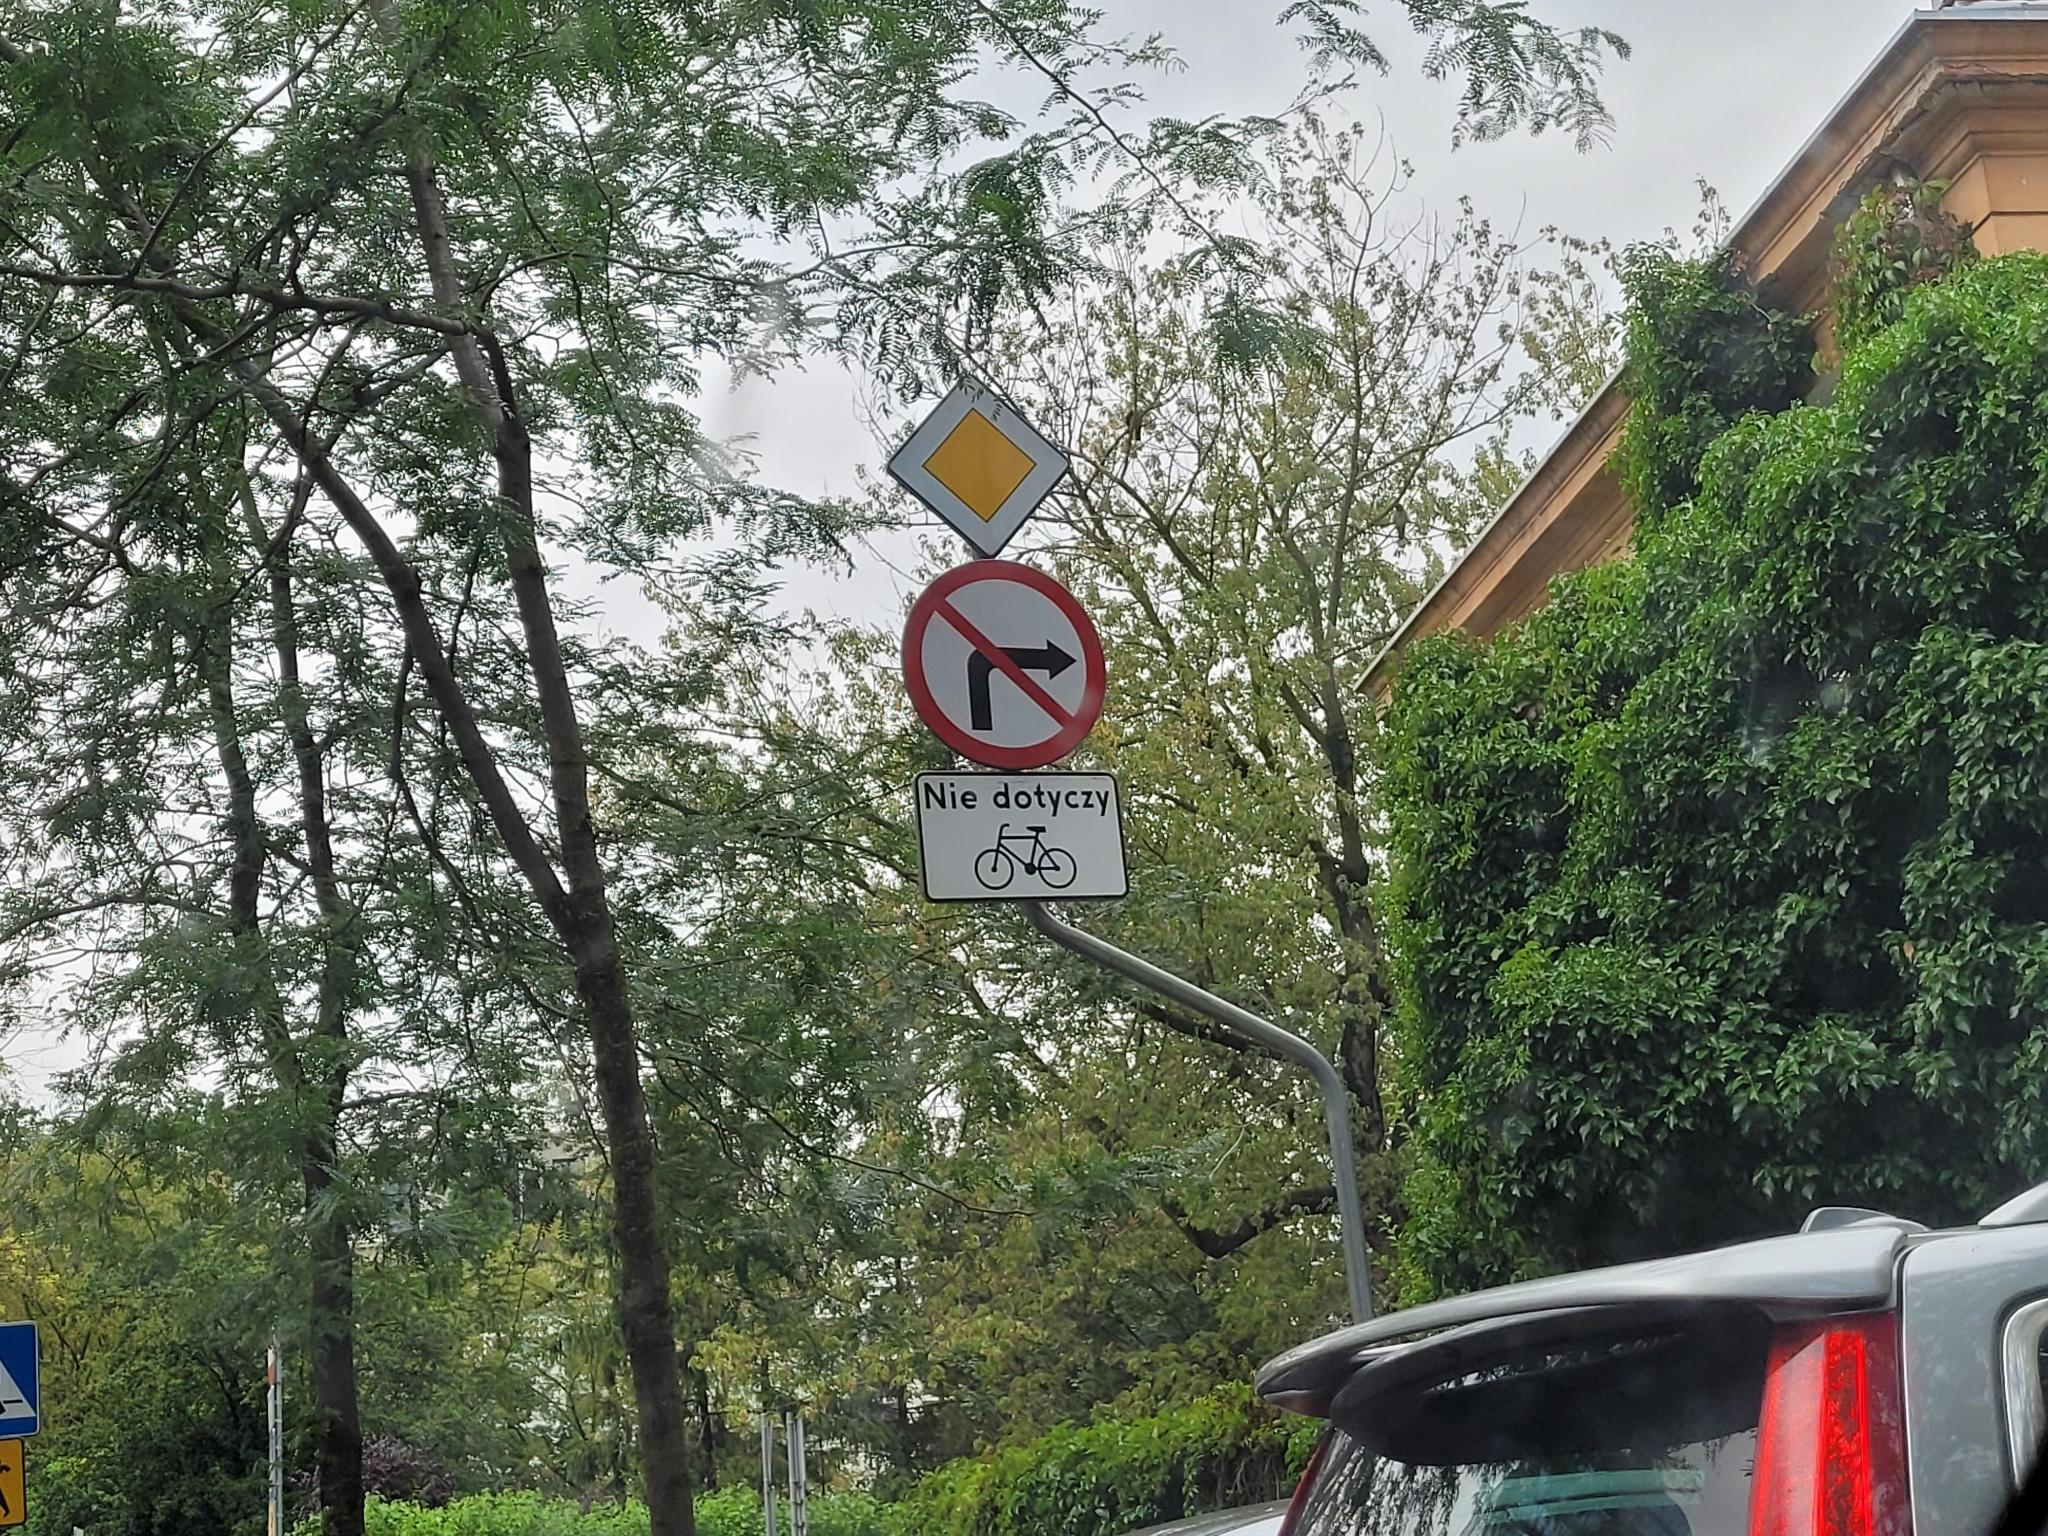information: (886, 373, 1072, 557), (0, 1324, 42, 1436)
other: (920, 774, 1126, 896), (0, 1440, 26, 1524)
prohibitory: (901, 558, 1109, 772)
